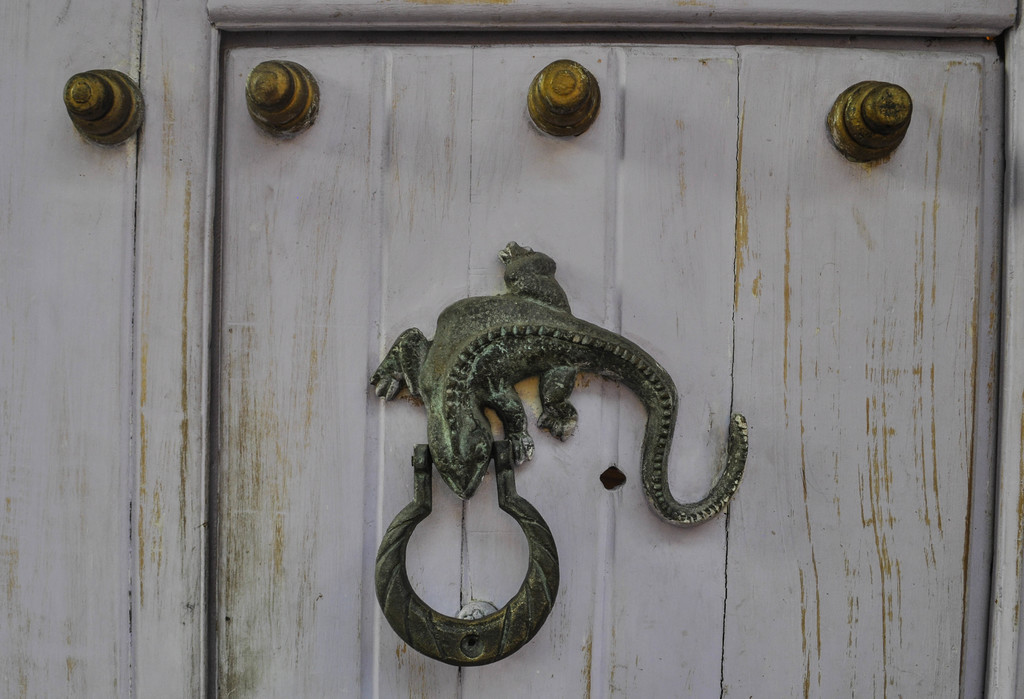door: (223, 44, 975, 699)
handle: (362, 463, 572, 671)
